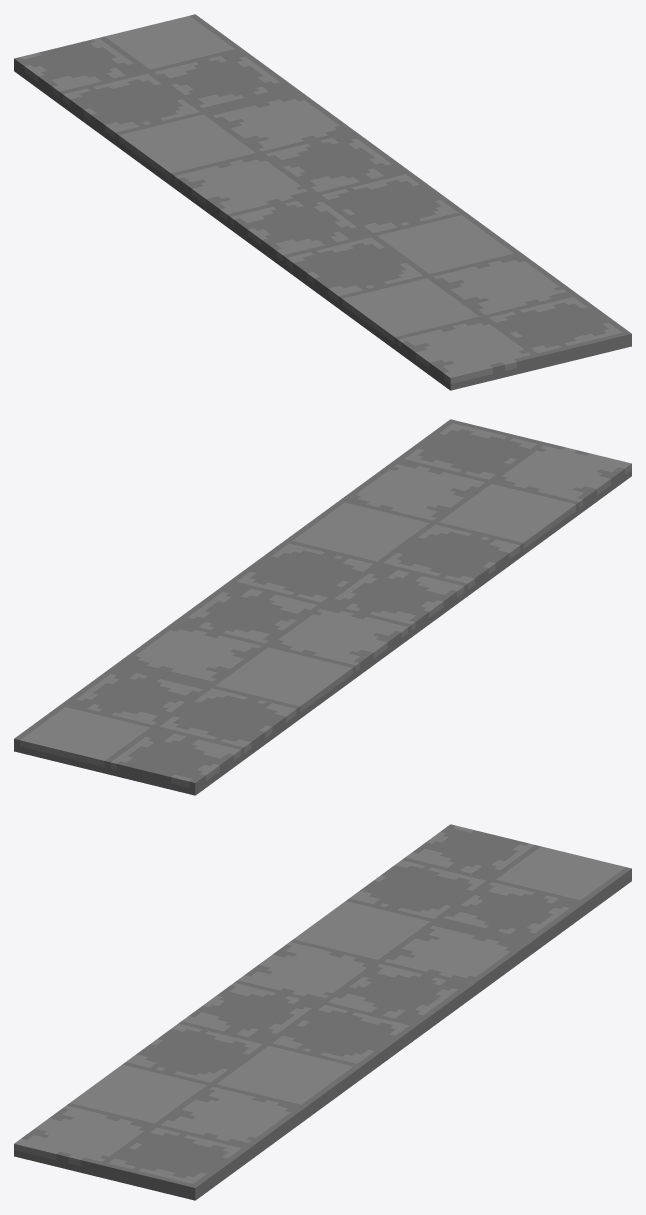
File: sidewalk.obj
3 renders of one model, top to bottom at view 1: azimuth 30°, elevation 25°; view 2: azimuth 150°, elevation 25°; view 3: azimuth 330°, elevation 25°, orthographic.
Size of the model in its own units: 30 by 2 by 125.
